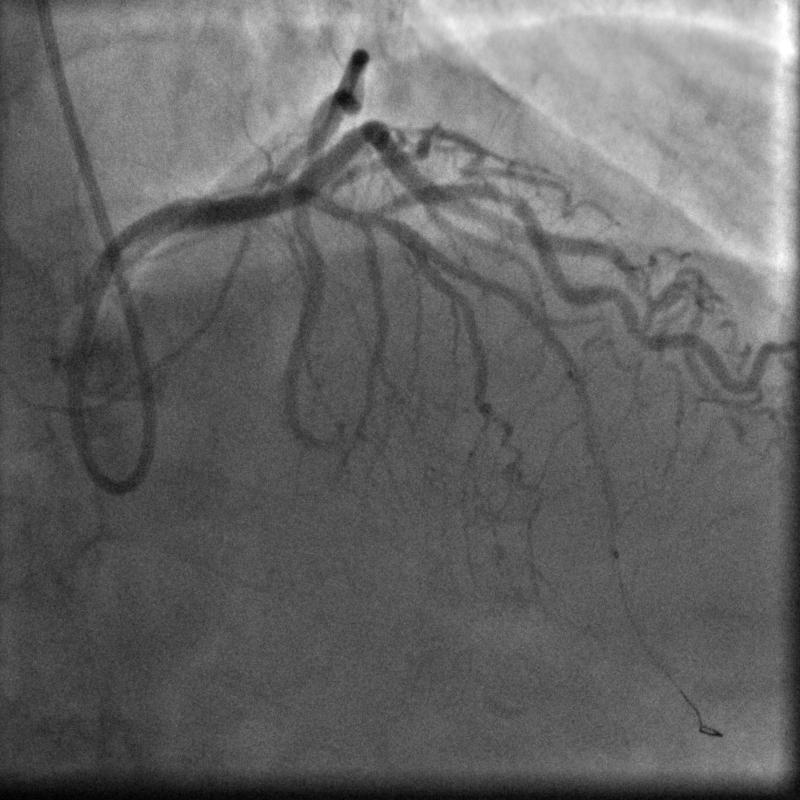Stenosis: (483, 177, 521, 214)
